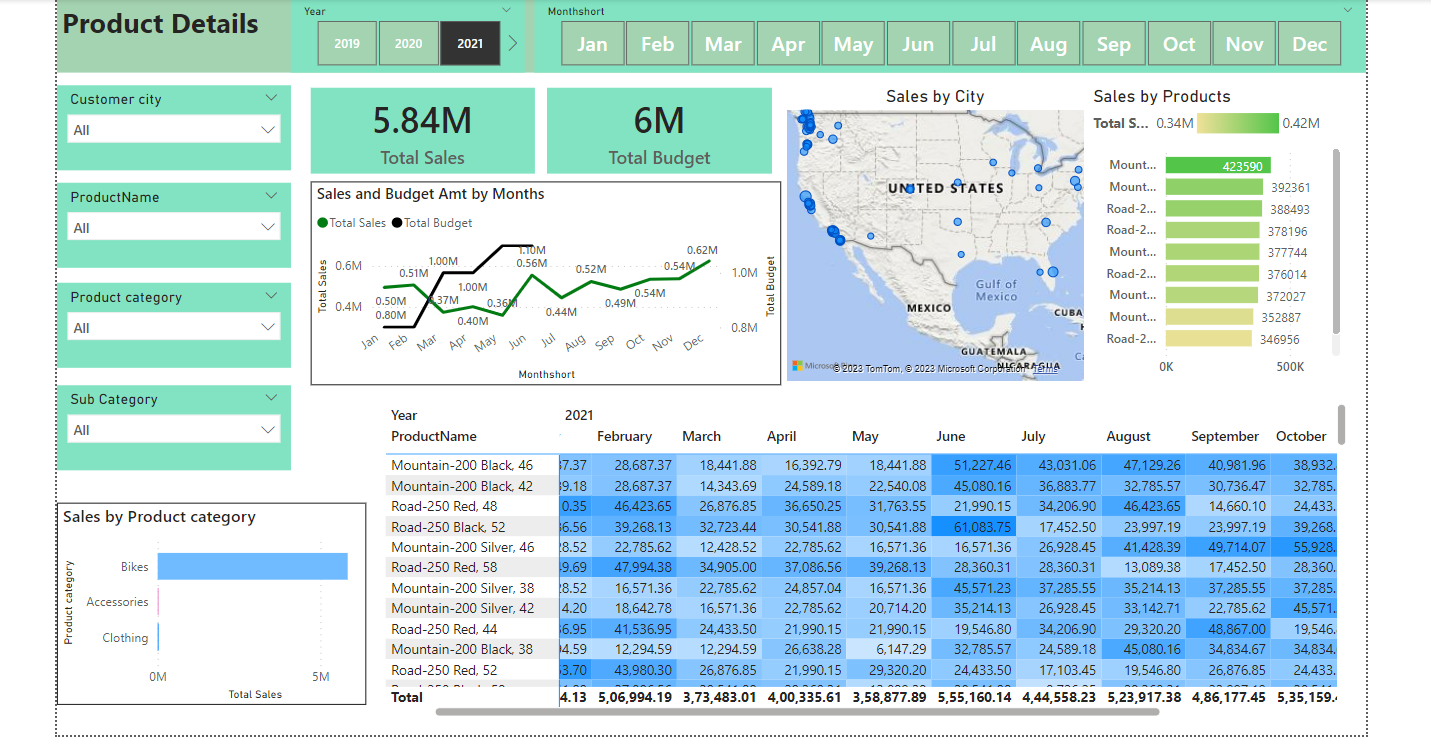

The page's visual inventory and layout, read from the dashboard file:
{"tool":"powerbi","page":{"name":"Product Details","canvas":[1280,720],"ordinal":2},"visuals":[{"type":"textbox","box":[0,0,1279.9,72.1],"z":0},{"type":"slicer","fields":{"Values":["Customer.Customer city"]},"box":[0,84.3,228.6,83.1],"z":1000},{"type":"slicer","fields":{"Values":["Product.ProductName"]},"box":[0,179.7,228.6,83.1],"z":2000},{"type":"slicer","fields":{"Values":["Product.Product category"]},"box":[0,277.5,228.6,83.1],"z":3000},{"type":"slicer","fields":{"Values":["Product.Sub Category"]},"box":[0,377.7,228.6,83.1],"z":4000},{"type":"slicer","fields":{"Values":["Calendar.Year"]},"box":[228.6,0,228.6,72.1],"z":5000},{"type":"slicer","fields":{"Values":["Calendar.Monthshort"]},"box":[467,0,812.9,72.1],"z":6000},{"type":"clusteredBarChart","title":"Sales by Product category","fields":{"Category":["Product.Product category"],"Y":["Table Measures.Total Sales"]},"box":[0,493.1,302.7,197.5],"z":8000},{"type":"lineChart","title":"Sales and Budget Amt by Months","fields":{"Y":["Table Measures.Total Sales"],"Y2":["Table Measures.Total Budget"],"Category":["Calendar.Monthshort"]},"box":[248.7,179,460.4,198.9],"z":9000},{"type":"clusteredBarChart","title":"Sales by Products","fields":{"Y":["Table Measures.Total Sales"],"Category":["Product.ProductName"]},"box":[1008.9,83.8,251.5,294.1],"z":11000},{"type":"map","title":"Sales by City","fields":{"Category":["Customer.Customer city"],"Size":["Table Measures.Total Sales"]},"box":[709.1,83.8,299.8,294.1],"z":12000},{"type":"card","fields":{"Values":["Table Measures.Total Sales"]},"box":[248.7,86.7,218.8,83.8],"z":12001},{"type":"card","fields":{"Values":["Table Measures.Total Budget"]},"box":[478.9,86.7,220.2,83.8],"z":12002},{"type":"pivotTable","fields":{"Columns":["Calendar.Date.Variation.Date Hierarchy.Year","Calendar.Date.Variation.Date Hierarchy.Month"],"Values":["Table Measures.Total Sales"],"Rows":["Product.ProductName"]},"box":[316.9,390.8,949.2,315.5],"z":12003}]}

Visuals, with their boxes on the page's 1280x720 design canvas (x1, y1, x2, y2). These are canvas units, not pixel positions in the 1431x745 screenshot, which may show the page scaled, cropped or inside an application window:
textbox: <region>0, 0, 1280, 72</region>
slicer - Customer.Customer city: <region>0, 84, 229, 167</region>
slicer - Product.ProductName: <region>0, 180, 229, 263</region>
slicer - Product.Product category: <region>0, 278, 229, 361</region>
slicer - Product.Sub Category: <region>0, 378, 229, 461</region>
slicer - Calendar.Year: <region>229, 0, 457, 72</region>
slicer - Calendar.Monthshort: <region>467, 0, 1280, 72</region>
"Sales by Product category" clusteredBarChart: <region>0, 493, 303, 691</region>
"Sales and Budget Amt by Months" lineChart: <region>249, 179, 709, 378</region>
"Sales by Products" clusteredBarChart: <region>1009, 84, 1260, 378</region>
"Sales by City" map: <region>709, 84, 1009, 378</region>
card - Table Measures.Total Sales: <region>249, 87, 468, 170</region>
card - Table Measures.Total Budget: <region>479, 87, 699, 170</region>
pivotTable - Calendar.Date.Variation.Date Hierarchy.Year x Calendar.Date.Variation.Date Hierarchy.Month: <region>317, 391, 1266, 706</region>
